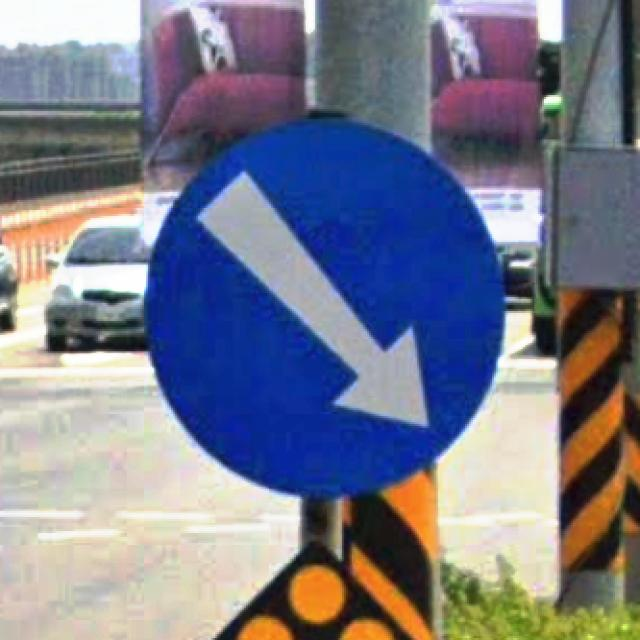thisway: (140, 109, 508, 503)
